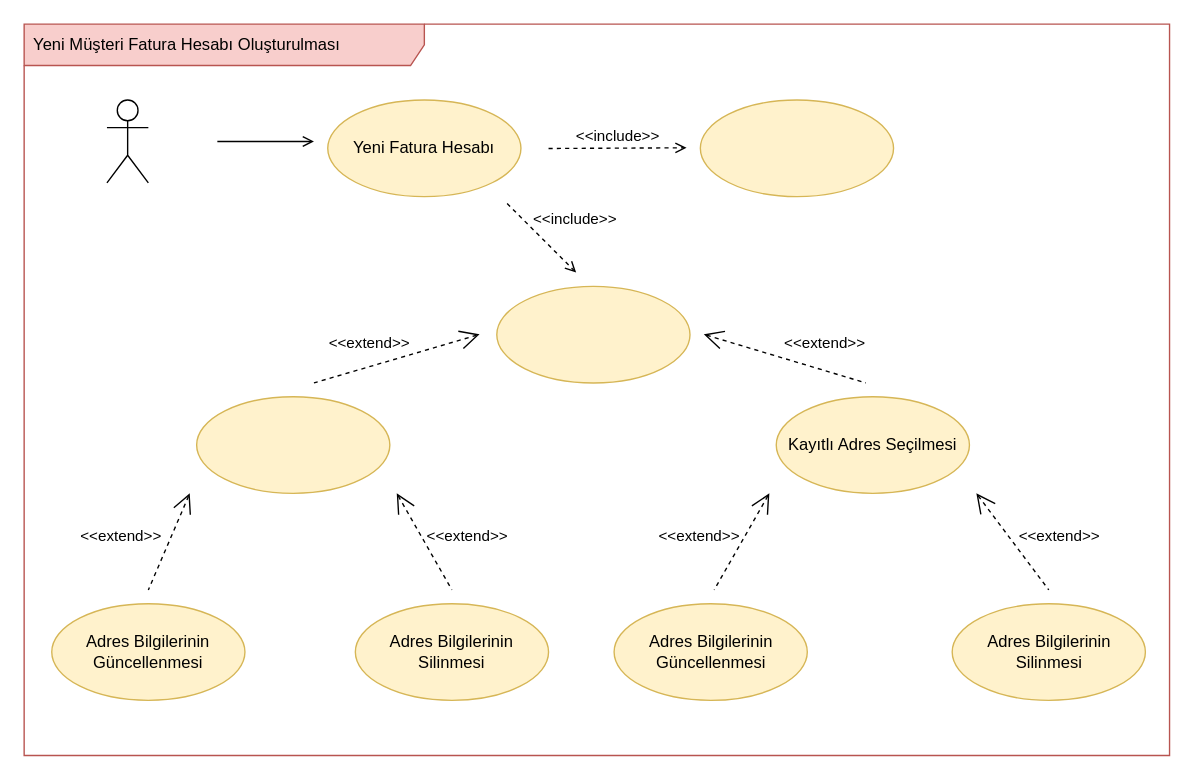
Some shapes in this 1194 by 780 pixel diagram are drawn without their labels. The shapes that lost their labels are listed below. From the top down, each one's centre as x and y in pixels, then its label:
At point 127,141: "Kullanıcı".
At point 796,148: "Kayıtlı Müşteri".
At point 592,334: "Adres Seçilmesi".
At point 292,444: "Yeni Adres Oluşturulması".
